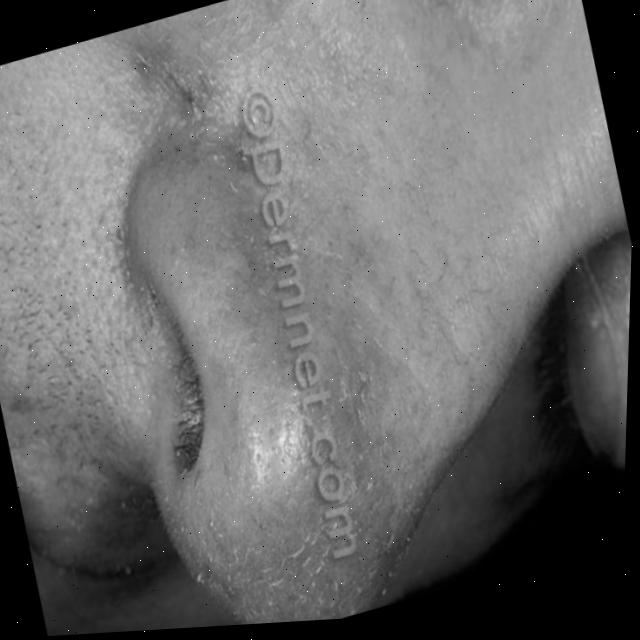Rosacea: (200, 290, 470, 609)
